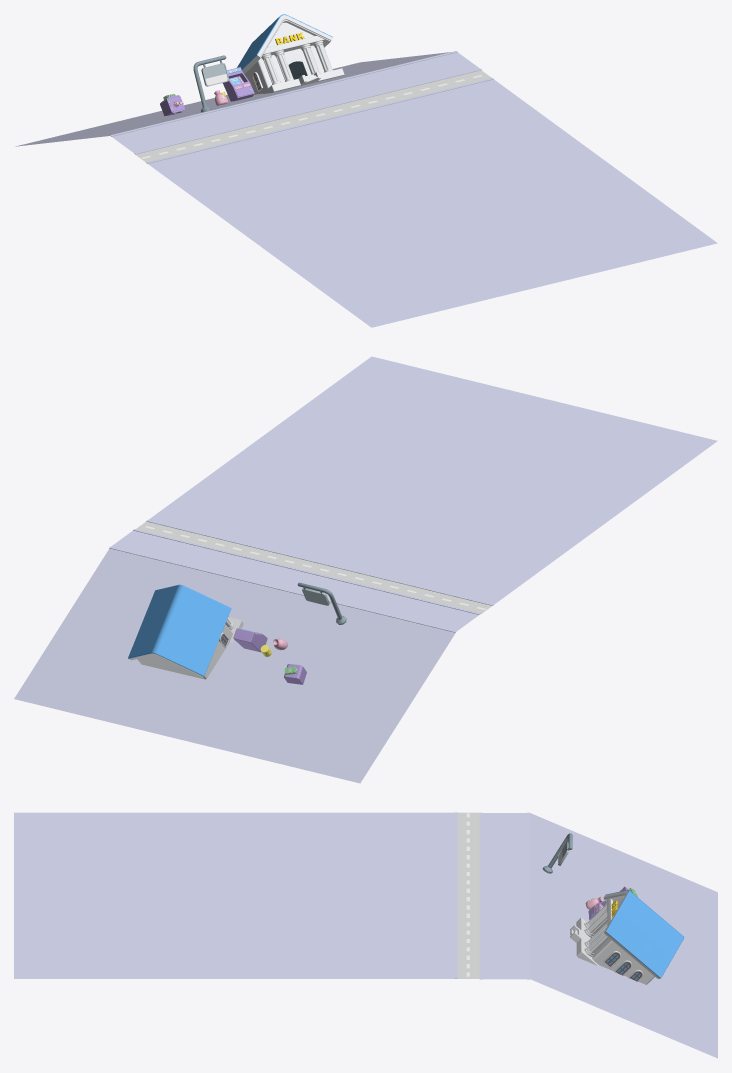
File: Env_07.fbx
3 renders of one model, top to bottom at view 1: azimuth 30°, elevation 25°; view 2: azimuth 150°, elevation 25°; view 3: azimuth 270°, elevation 25°, orthographic.
Parts seen in each view (by area): view 1: 02_CarPlane.004, 02_Parking.004, _gltfNode_1440, 02_Road.001, 02_Plane.004, 02_Street Light.001, _gltfNode_6036; view 2: 02_CarPlane.004, 02_Plane.004, 02_Parking.004, _gltfNode_1440, 02_Road.001, 02_Street Light.001; view 3: 02_CarPlane.004, 02_Plane.004, 02_Parking.004, _gltfNode_1440, 02_Road.001, 02_Street Light.001.
Boxes of the visible parts, left/top/right/bottom form: 02_CarPlane.004: left=146, top=78, right=717, bottom=327; 02_Parking.004: left=110, top=51, right=481, bottom=154; _gltfNode_1440: left=237, top=14, right=344, bottom=94; 02_Road.001: left=135, top=70, right=491, bottom=162; 02_Plane.004: left=15, top=52, right=450, bottom=146; 02_Street Light.001: left=193, top=55, right=228, bottom=112; _gltfNode_6036: left=223, top=67, right=254, bottom=101; 02_CarPlane.004: left=146, top=356, right=717, bottom=605; 02_Plane.004: left=14, top=548, right=455, bottom=783; 02_Parking.004: left=109, top=529, right=480, bottom=632; _gltfNode_1440: left=128, top=584, right=243, bottom=679; 02_Road.001: left=136, top=521, right=491, bottom=613; 02_Street Light.001: left=297, top=582, right=346, bottom=624; 02_CarPlane.004: left=14, top=812, right=457, bottom=978; 02_Plane.004: left=530, top=813, right=717, bottom=1058; 02_Parking.004: left=479, top=812, right=529, bottom=979; _gltfNode_1440: left=570, top=890, right=684, bottom=984; 02_Road.001: left=457, top=812, right=479, bottom=978; 02_Street Light.001: left=542, top=833, right=572, bottom=873.
Size of the model in its own units: 4007 by 1245 by 7156.
